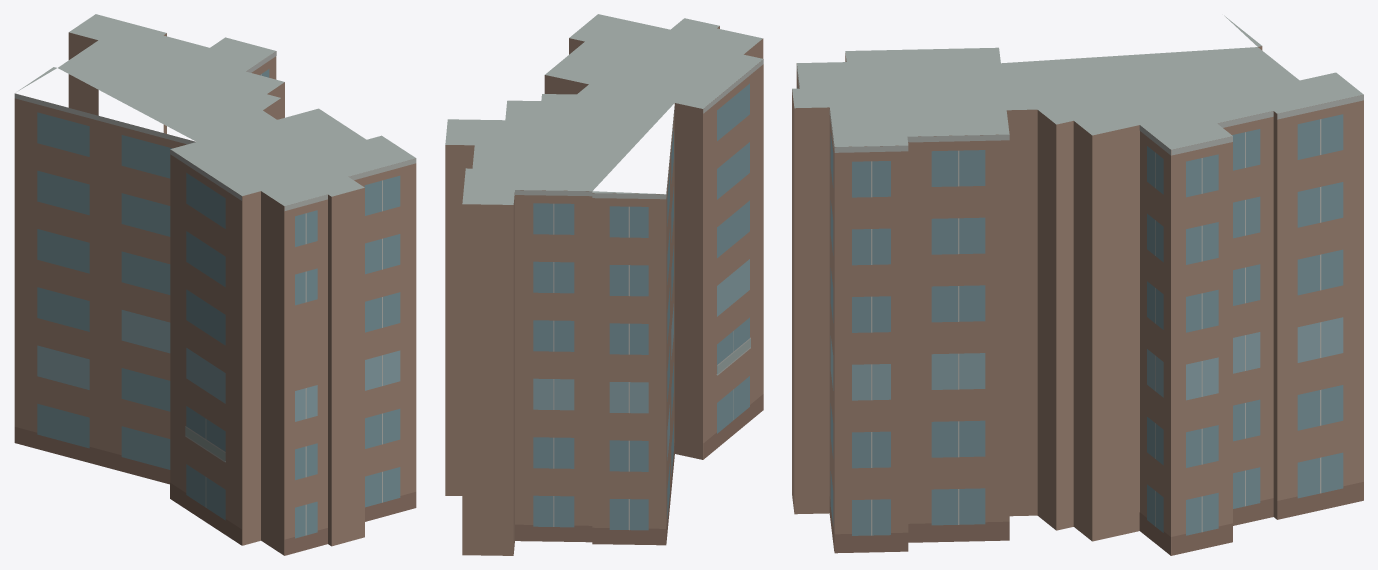
The model's file is survey-upis-32656673.glb.
The picture shows the model from 3 angles, left to right: view 1: azimuth 30°, elevation 25°; view 2: azimuth 150°, elevation 25°; view 3: azimuth 270°, elevation 25°; orthographic projection. The views are drawn at different scales.
Visible parts, largest first — view 1: survey-upis-32656673.tmp; view 2: survey-upis-32656673.tmp; view 3: survey-upis-32656673.tmp.
Boxes of the visible parts, x1=… form: survey-upis-32656673.tmp: x1=14, y1=14, x2=416, y2=555; survey-upis-32656673.tmp: x1=445, y1=14, x2=763, y2=555; survey-upis-32656673.tmp: x1=792, y1=15, x2=1363, y2=555.
Size of the model in its own units: 12.24 by 17.05 by 21.77.
